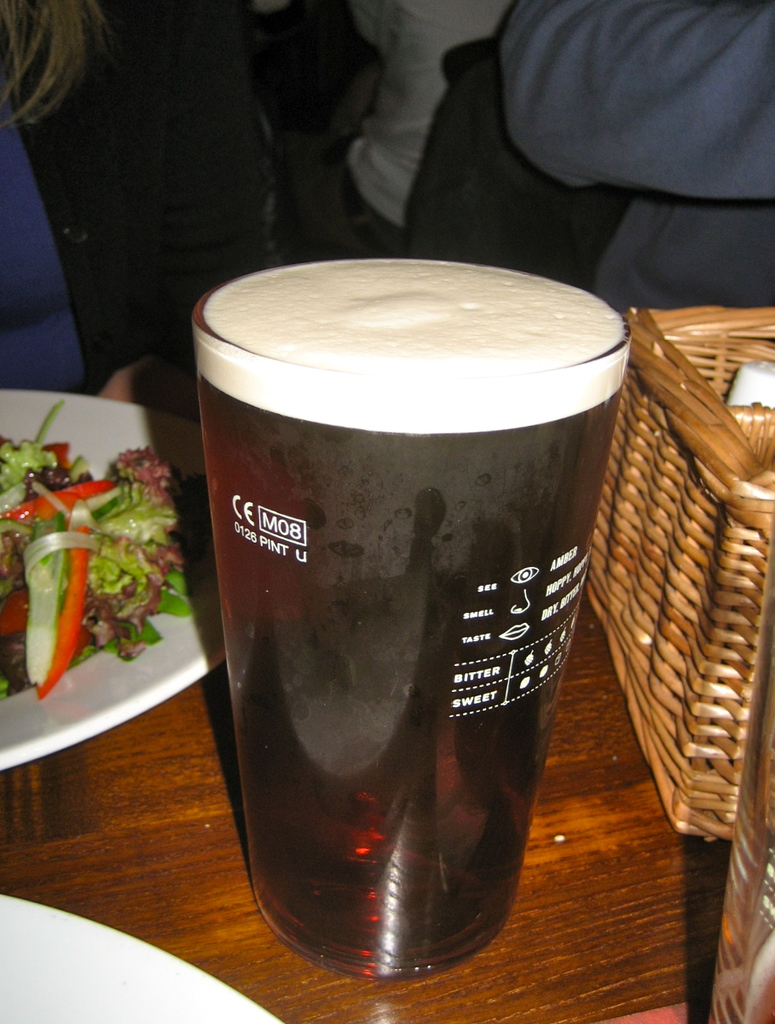Beer: (199, 254, 628, 971)
